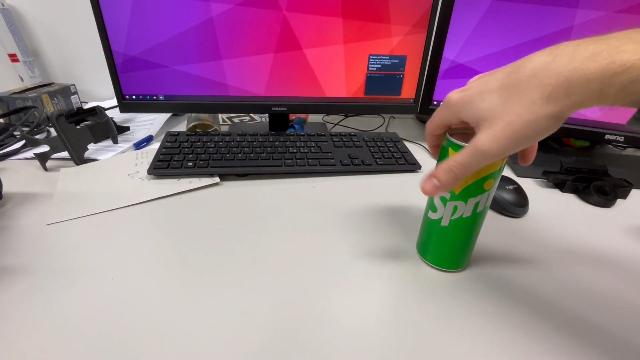Sprite: (413, 124, 509, 276)
